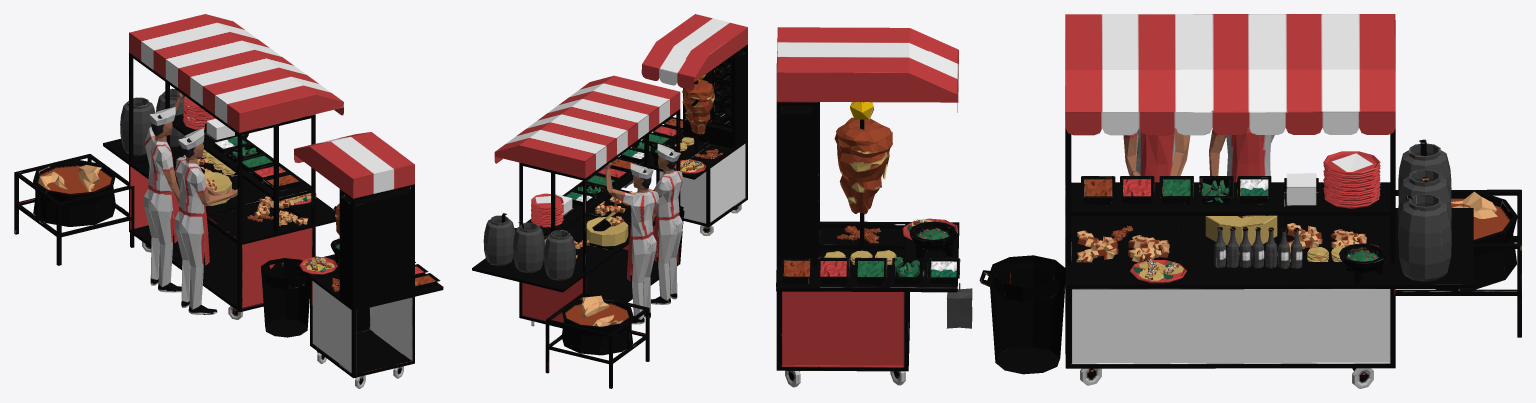
The model's file is PuestoTacos.fbx.
3 renders of one model, left to right at view 1: azimuth 30°, elevation 25°; view 2: azimuth 150°, elevation 25°; view 3: azimuth 270°, elevation 25°, orthographic. The views are drawn at different scales.
Parts seen in each view (by area): view 1: Taquos; view 2: Taquos; view 3: Taquos.
Part boxes in pixels (<box>): Taquos: <box>14,14,443,388</box>; Taquos: <box>472,14,747,388</box>; Taquos: <box>776,14,1521,388</box>.
Size of the model in its own units: 191 by 215 by 452.
